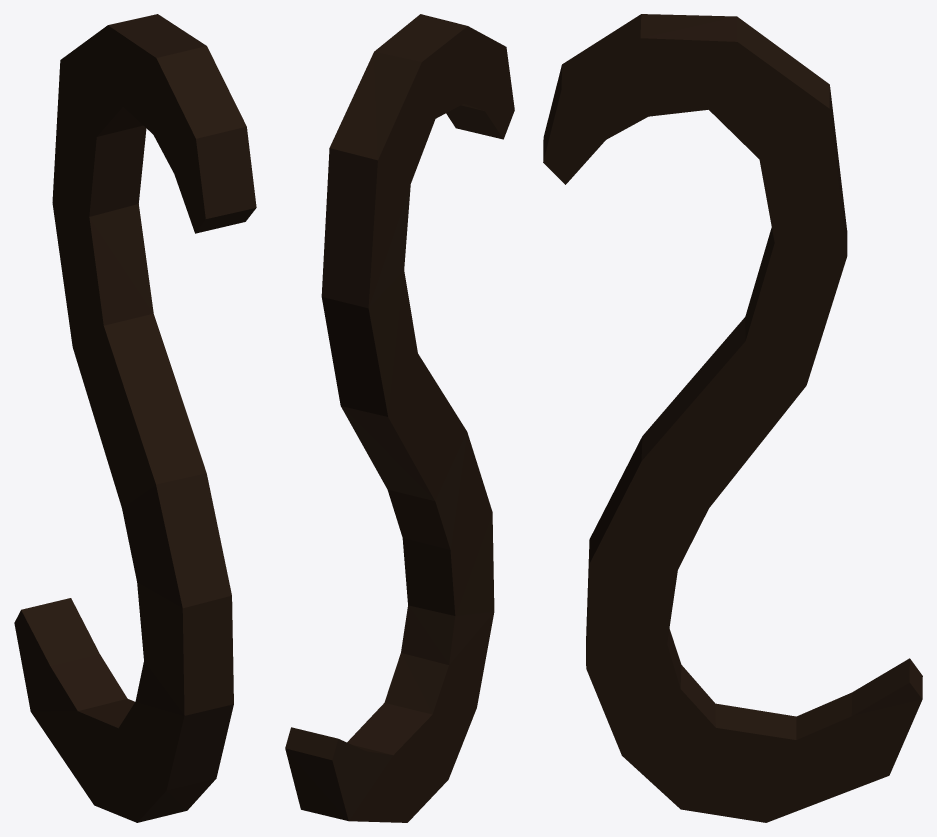
The model's file is SFFA_Hook.fbx.
The picture shows the model from 3 angles, left to right: view 1: azimuth 30°, elevation 25°; view 2: azimuth 150°, elevation 25°; view 3: azimuth 270°, elevation 25°; orthographic projection. The views are drawn at different scales.
Visible parts, largest first — view 1: SFFA_Hook; view 2: SFFA_Hook; view 3: SFFA_Hook.
Part boxes in pixels (left/top/right/bottom): SFFA_Hook: left=14, top=14, right=256, bottom=822; SFFA_Hook: left=285, top=14, right=514, bottom=822; SFFA_Hook: left=543, top=14, right=922, bottom=822.
Bounding box in the file's own units: 2.25 × 33 × 14.47.
